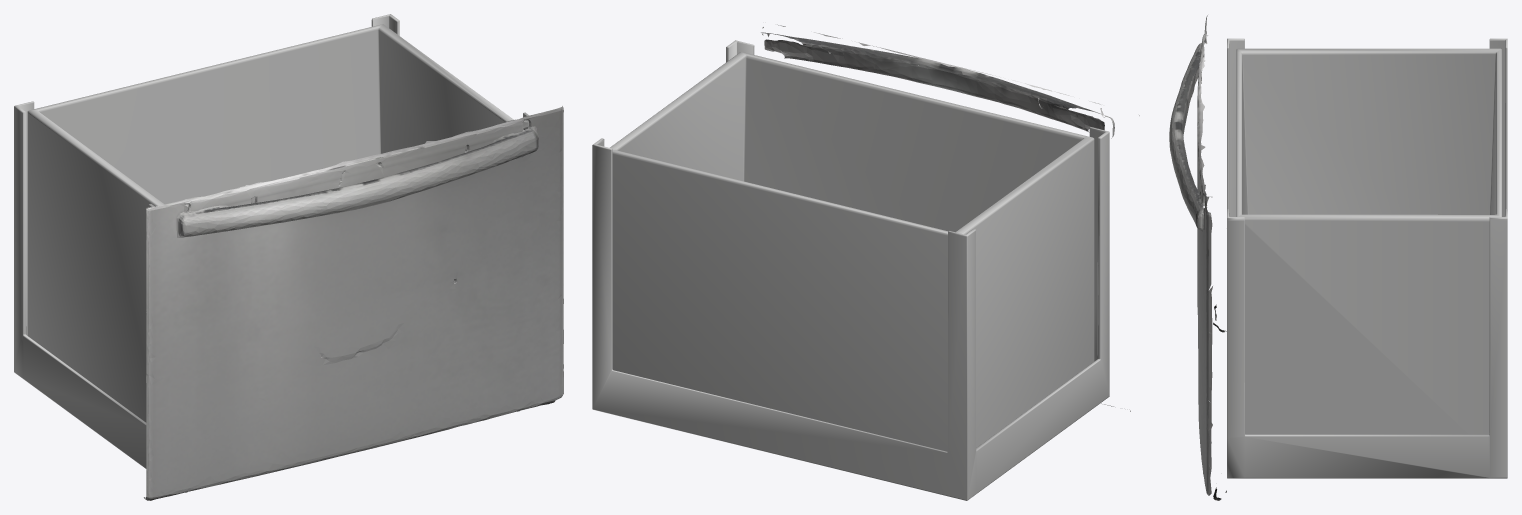
Rendered from drawer_bottom.glb.
3 views of the same model, side by side, from view 1: azimuth 30°, elevation 25°; view 2: azimuth 150°, elevation 25°; view 3: azimuth 270°, elevation 25° (orthographic). The views are drawn at different scales.
Parts seen in each view (by area): view 1: source_front_cap_0, prefab_drawer_body_1; view 2: prefab_drawer_body_1, source_front_cap_0; view 3: prefab_drawer_body_1, source_front_cap_0.
Boxes of the visible parts, x1,y1,x2,y2 form: source_front_cap_0: (144, 106, 563, 500); prefab_drawer_body_1: (14, 14, 530, 468); prefab_drawer_body_1: (592, 40, 1109, 500); source_front_cap_0: (761, 24, 1139, 411); prefab_drawer_body_1: (1227, 38, 1507, 478); source_front_cap_0: (1169, 15, 1226, 500).
Size of the model in its own units: 1.72 by 1.16 by 1.23.
2 materials, 1 textured.
